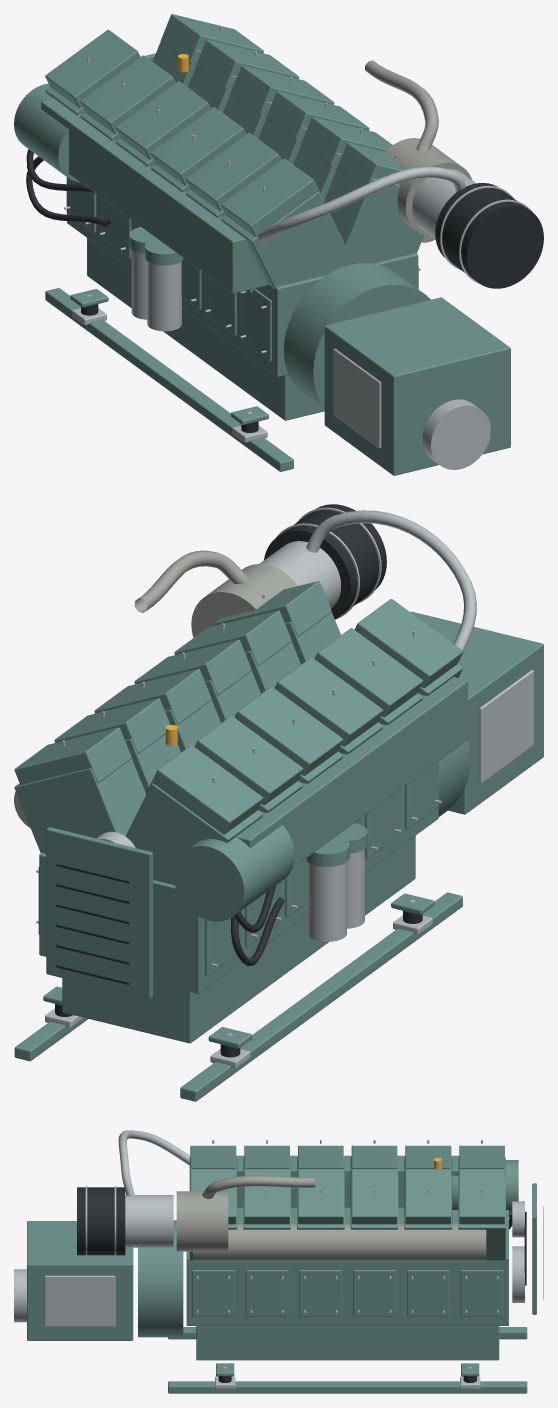
File: marine_v12_feeder.glb
3 views of the same model, one above another, from view 1: azimuth 30°, elevation 25°; view 2: azimuth 150°, elevation 25°; view 3: azimuth 270°, elevation 25° (orthographic). The views are drawn at different scales.
Parts seen in each view (by area): view 1: marine_v12_feeder Engine_Paint, marine_v12_feeder Fixed_MachinedSteel, marine_v12_feeder Fixed_Rubber, marine_v12_feeder Fixed_HeatShield; view 2: marine_v12_feeder Engine_Paint, marine_v12_feeder Fixed_MachinedSteel, marine_v12_feeder Fixed_Rubber, marine_v12_feeder Fixed_HeatShield; view 3: marine_v12_feeder Engine_Paint, marine_v12_feeder Fixed_HeatShield, marine_v12_feeder Fixed_MachinedSteel, marine_v12_feeder Fixed_Rubber.
Boxes of the visible parts, box(x1,y1,x2,y2) form: marine_v12_feeder Engine_Paint: box(14, 14, 510, 475); marine_v12_feeder Fixed_MachinedSteel: box(64, 25, 532, 469); marine_v12_feeder Fixed_Rubber: box(26, 149, 543, 432); marine_v12_feeder Fixed_HeatShield: box(365, 60, 472, 242); marine_v12_feeder Engine_Paint: box(14, 581, 543, 1101); marine_v12_feeder Fixed_MachinedSteel: box(36, 507, 533, 1068); marine_v12_feeder Fixed_Rubber: box(55, 504, 422, 1057); marine_v12_feeder Fixed_HeatShield: box(14, 550, 297, 827); marine_v12_feeder Engine_Paint: box(27, 1145, 536, 1393); marine_v12_feeder Fixed_HeatShield: box(176, 1175, 486, 1261); marine_v12_feeder Fixed_MachinedSteel: box(14, 1130, 524, 1389); marine_v12_feeder Fixed_Rubber: box(77, 1187, 543, 1382).
Size of the model in its own units: 2.32 by 2.75 by 5.75.
